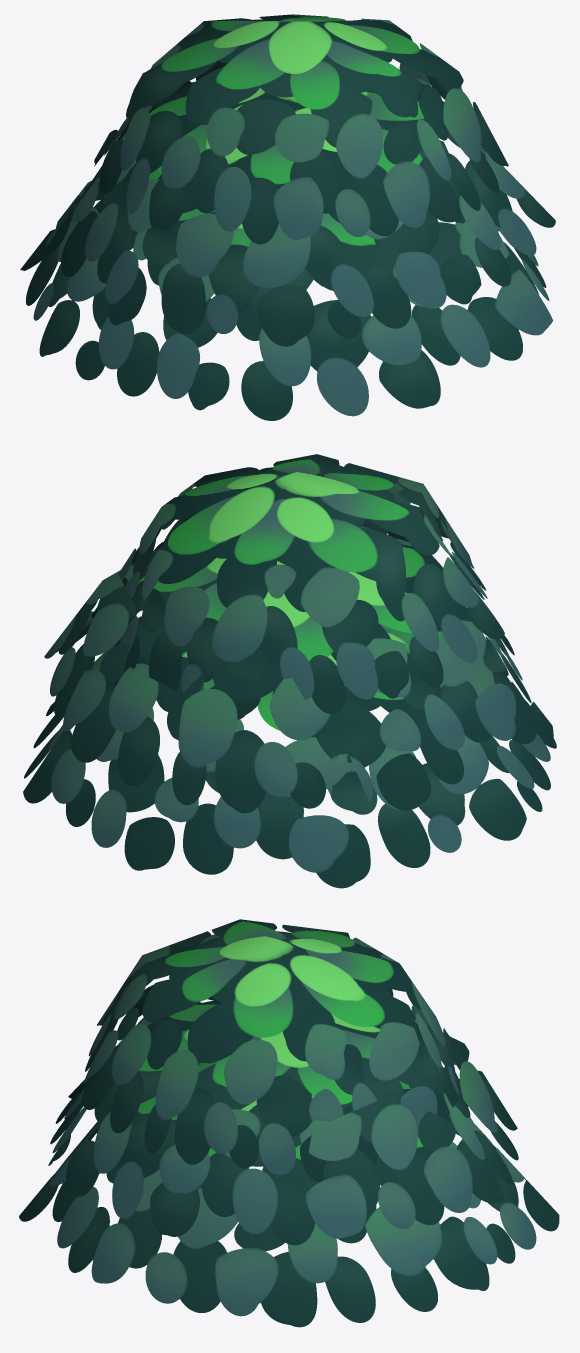
File: BushAqua.fbx
3 views of the same model, one above another, from view 1: azimuth 30°, elevation 25°; view 2: azimuth 150°, elevation 25°; view 3: azimuth 270°, elevation 25° (orthographic). The views are drawn at different scales.
Parts seen in each view (by area): view 1: AquaBush; view 2: AquaBush; view 3: AquaBush.
Part boxes in pixels (x1=…): AquaBush: x1=20, y1=14, x2=555, y2=420; AquaBush: x1=23, y1=454, x2=556, y2=888; AquaBush: x1=19, y1=919, x2=559, y2=1327.
Bounding box in the file's own units: 213 × 119 × 213.
